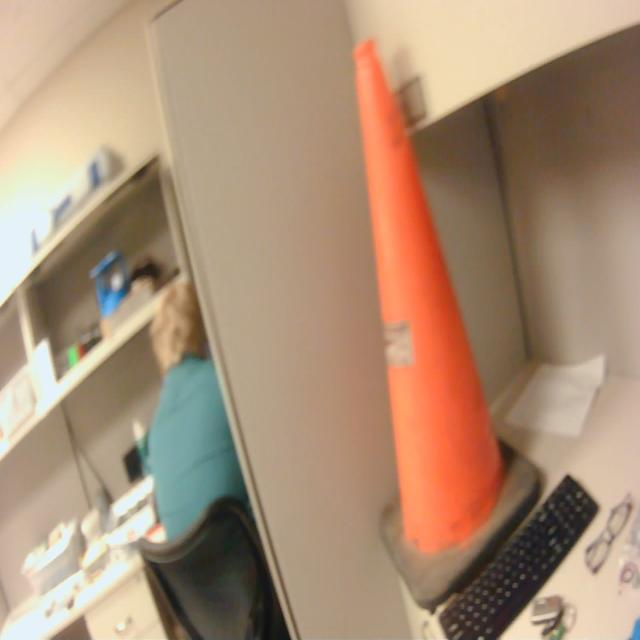traffic cone: (348, 35, 549, 619)
